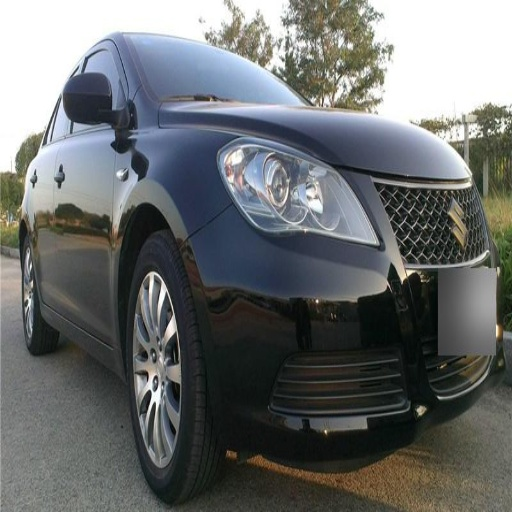front_bumper: (193, 167, 493, 427)
front_glass: (126, 36, 261, 98)
front_left_light: (456, 181, 486, 261)
front_right_door: (53, 38, 125, 331)
front_right_light: (219, 133, 379, 245)
